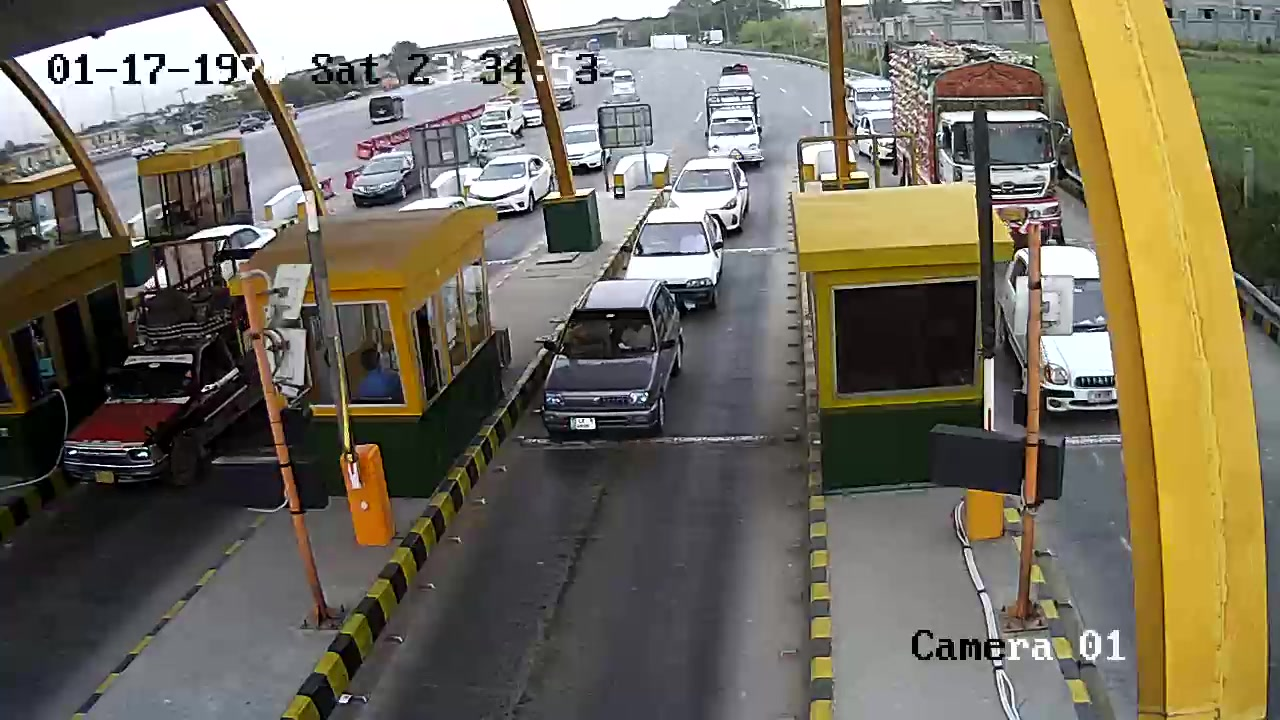F1: (538, 279, 690, 462)
